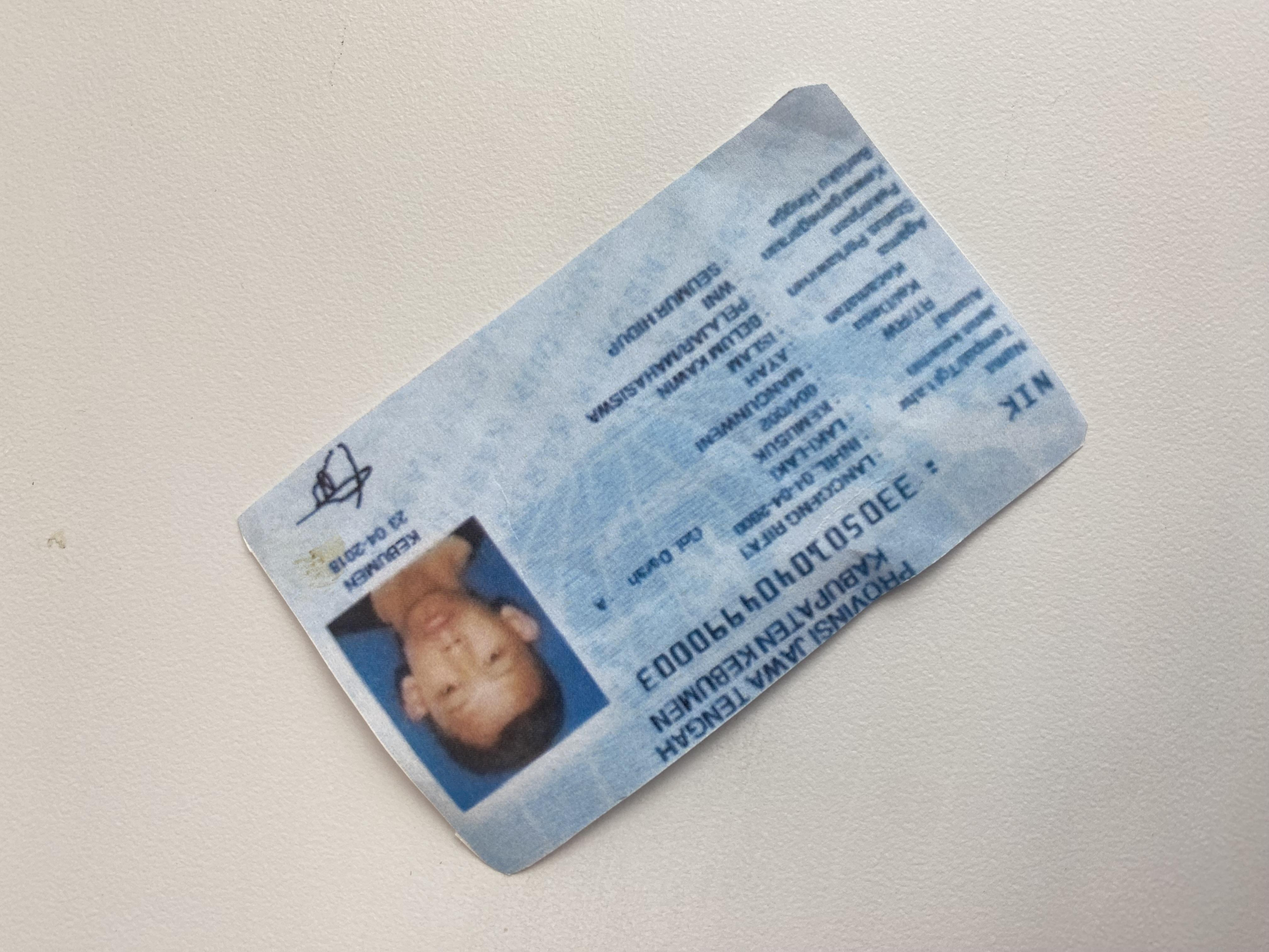ID-card: (81, 174, 1166, 822)
